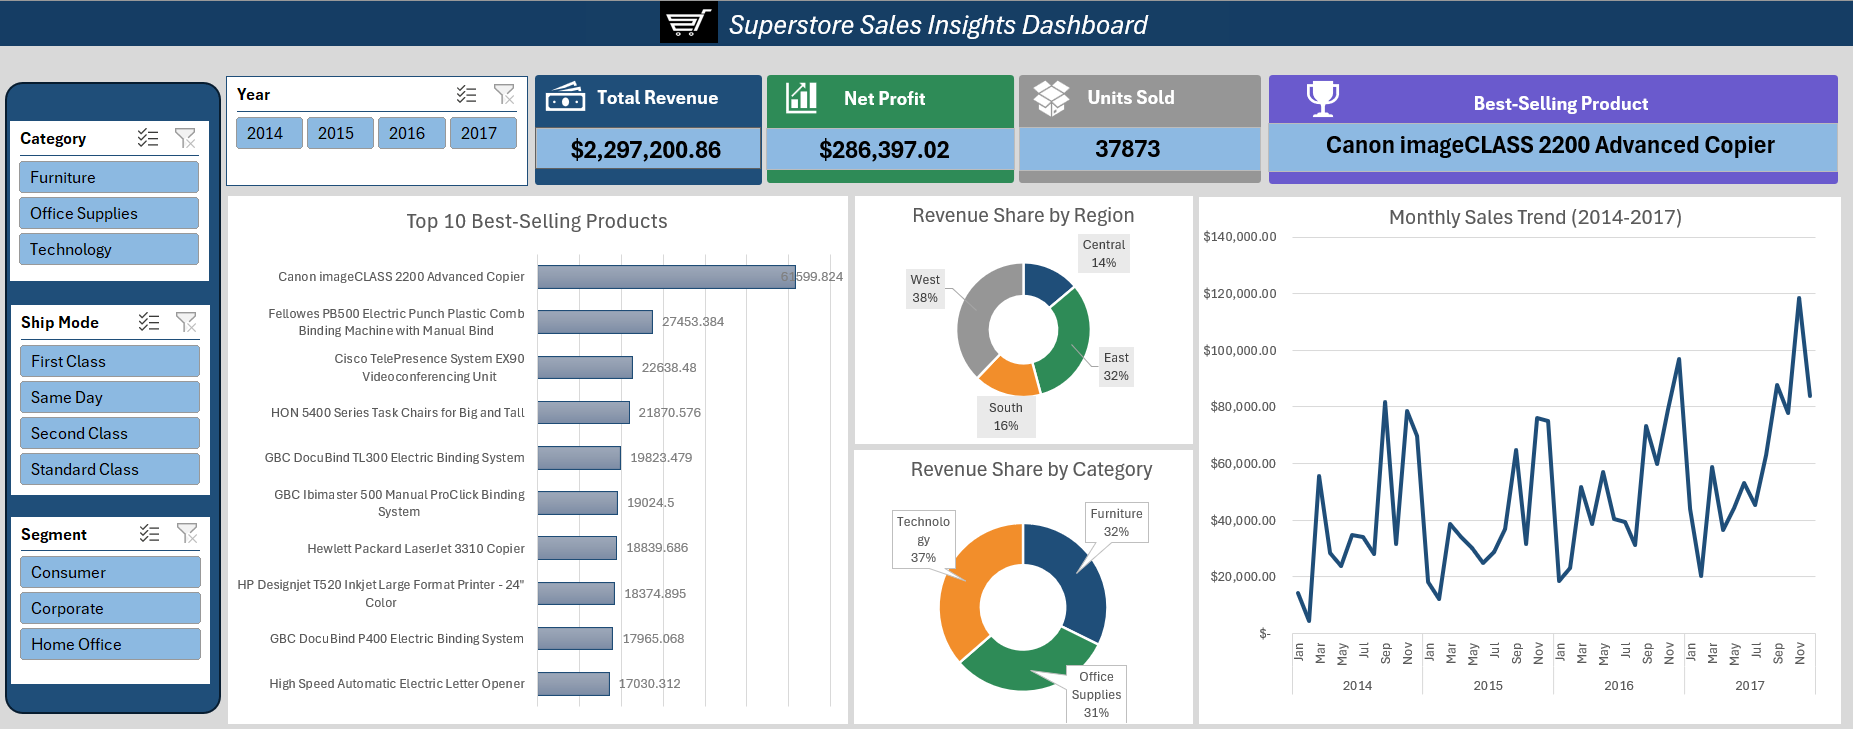

Layout of this report page (visuals, bound fields, positions):
{"tool":"powerbi","page":{"name":"Page 1","canvas":[2000,1100],"ordinal":0},"visuals":[{"type":"card","fields":{"Values":["Sample - Superstore.Total Sales"]},"box":[11.9,97.8,307.8,145.5],"z":0},{"type":"card","fields":{"Values":["Sample - Superstore.Total Quantity"]},"box":[966.3,97.8,307.8,145.5],"z":1000},{"type":"card","fields":{"Values":["Sample - Superstore.Total Profit"]},"box":[331.6,97.8,307.8,145.5],"z":2000},{"type":"card","title":"Total Orders","fields":{"Values":["Sample - Superstore.Total Orders"]},"box":[649,97.8,307.8,145.5],"z":3000},{"type":"card","fields":{"Values":["Sample - Superstore.Top Product"]},"box":[1285.5,97.2,690.1,145.8],"z":4000},{"type":"clusteredBarChart","title":" Sales by Region","fields":{"Category":["Sample - Superstore.Region"],"Y":["Sample - Superstore.Total Sales"]},"box":[1285.5,255.2,702.3,430.1],"z":5000},{"type":"clusteredBarChart","title":"Sales vs Profit by Region","fields":{"Category":["Sample - Superstore.Region"],"Y":["Sample - Superstore.Total Profit","Sample - Superstore.Total Sales"]},"box":[984.2,697.4,1003.6,386.4],"z":6000},{"type":"areaChart","title":" Monthly Sales Trend","fields":{"Category":["DateTable.Month Name"],"Y":["Sample - Superstore.Total Sales"]},"box":[12.2,255.2,702.3,430.1],"z":7000},{"type":"clusteredBarChart","title":"Top 10 Best-Selling Products ","fields":{"Y":["Sample - Superstore.Total Sales"],"Category":["Sample - Superstore.Product Name"]},"box":[12.2,697.4,955,386.4],"z":8000},{"type":"slicer","title":"Year_Slicer","fields":{"Values":["DateTable.Year"]},"box":[1258.8,4.9,741.2,92.3],"z":9000},{"type":"image","title":"open_button","box":[53.5,9.7,92.3,80.2],"z":12000},{"type":"shape","title":"1st_Title","box":[166.3,8.6,1009.6,80.3],"z":14000},{"type":"image","title":"trolly_logo","box":[166.3,11.5,109,80.3],"z":15000},{"type":"donutChart","title":" Sales by Category","fields":{"Category":["Sample - Superstore.Category"],"Y":["Sample - Superstore.Total Sales"]},"box":[721.7,255.2,554.1,430.1],"z":16000}]}

Visuals, with their boxes on the page's 2000x1100 design canvas (x1, y1, x2, y2). These are canvas units, not pixel positions in the 1853x729 screenshot, which may show the page scaled, cropped or inside an application window:
card - Sample - Superstore.Total Sales: [x1=12, y1=98, x2=320, y2=243]
card - Sample - Superstore.Total Quantity: [x1=966, y1=98, x2=1274, y2=243]
card - Sample - Superstore.Total Profit: [x1=332, y1=98, x2=639, y2=243]
"Total Orders" card: [x1=649, y1=98, x2=957, y2=243]
card - Sample - Superstore.Top Product: [x1=1286, y1=97, x2=1976, y2=243]
" Sales by Region" clusteredBarChart: [x1=1286, y1=255, x2=1988, y2=685]
"Sales vs Profit by Region" clusteredBarChart: [x1=984, y1=697, x2=1988, y2=1084]
" Monthly Sales Trend" areaChart: [x1=12, y1=255, x2=714, y2=685]
"Top 10 Best-Selling Products " clusteredBarChart: [x1=12, y1=697, x2=967, y2=1084]
"Year_Slicer" slicer: [x1=1259, y1=5, x2=2000, y2=97]
"open_button" image: [x1=54, y1=10, x2=146, y2=90]
"1st_Title" shape: [x1=166, y1=9, x2=1176, y2=89]
"trolly_logo" image: [x1=166, y1=12, x2=275, y2=92]
" Sales by Category" donutChart: [x1=722, y1=255, x2=1276, y2=685]
